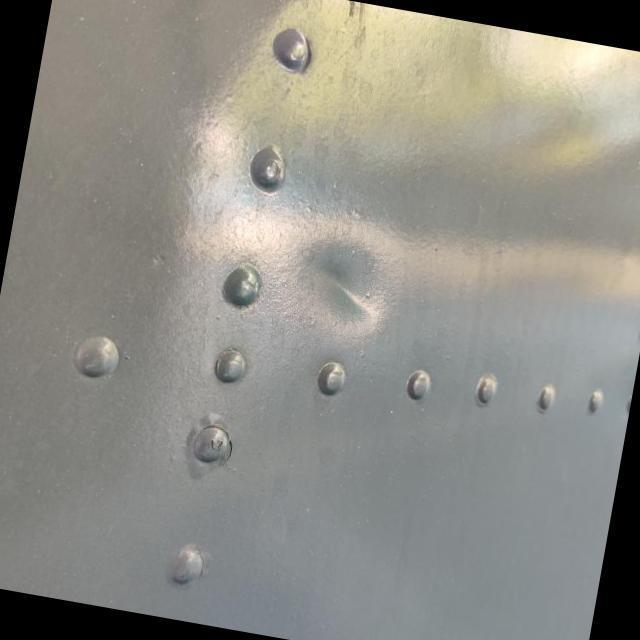Dent: (242, 202, 433, 383)
